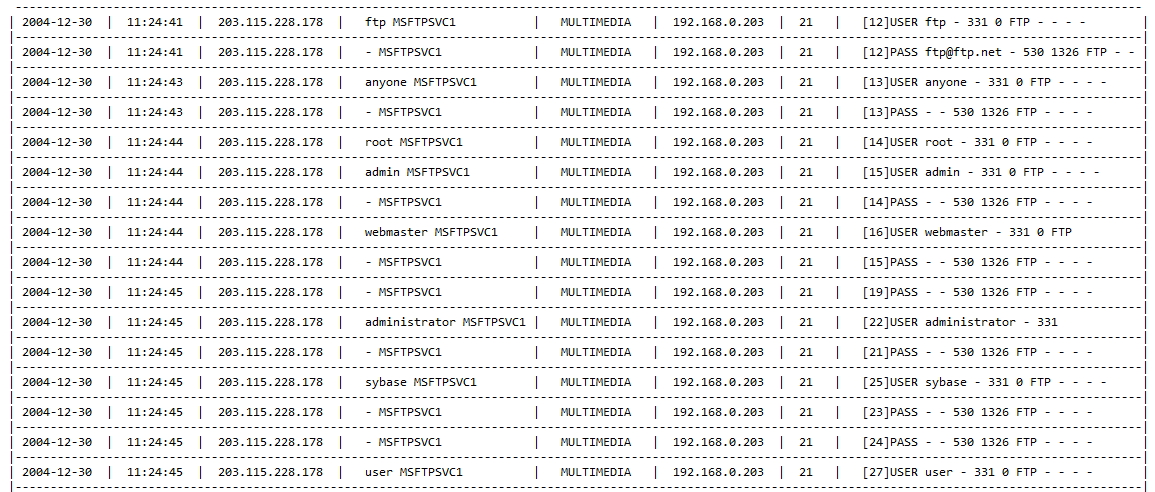table: (3, 3, 1150, 492)
